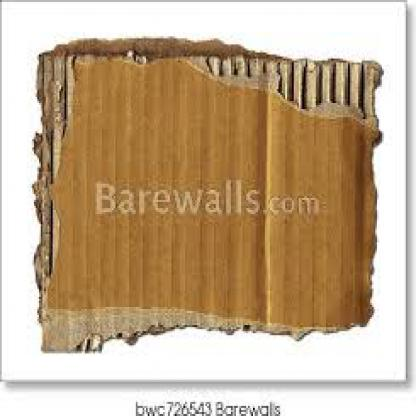CARDBOARD: (32, 37, 382, 352)
